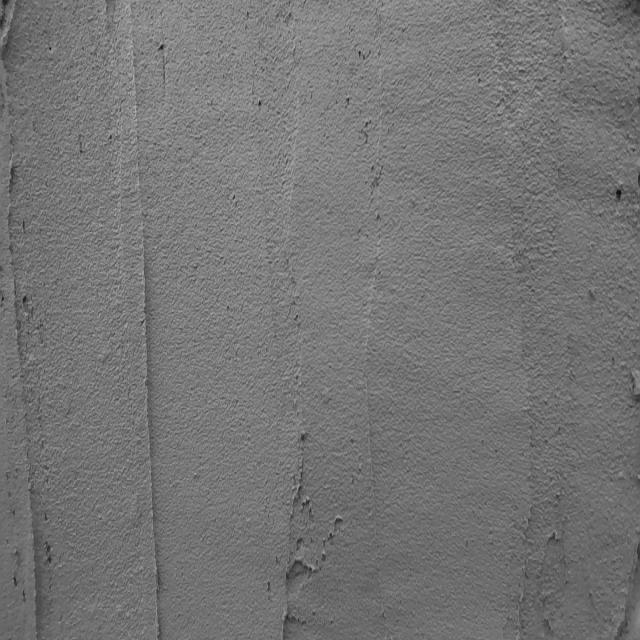trowels marks: (3, 36, 54, 636), (126, 30, 156, 640)
